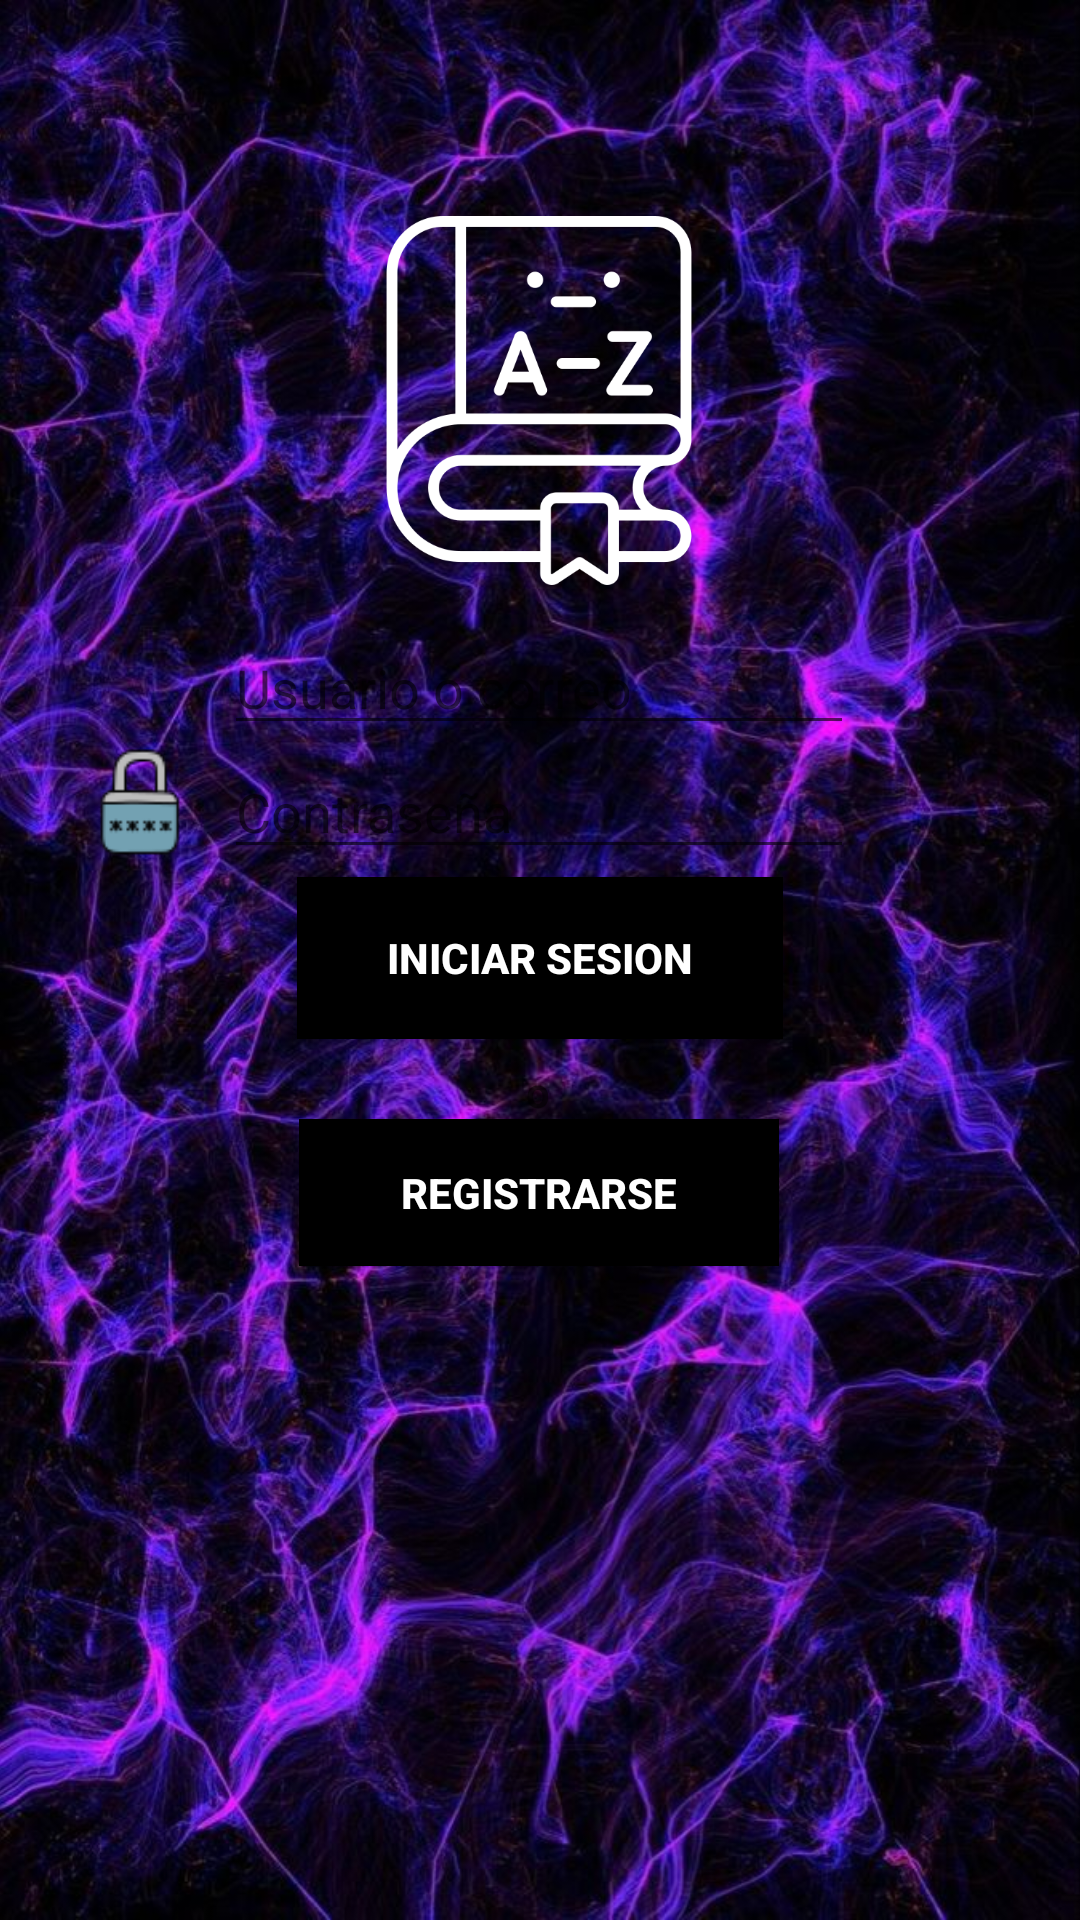

Named icons in this screenshot (1080px×1920px) and their centers, (x=x, y=y):
password: (x=138, y=802)
